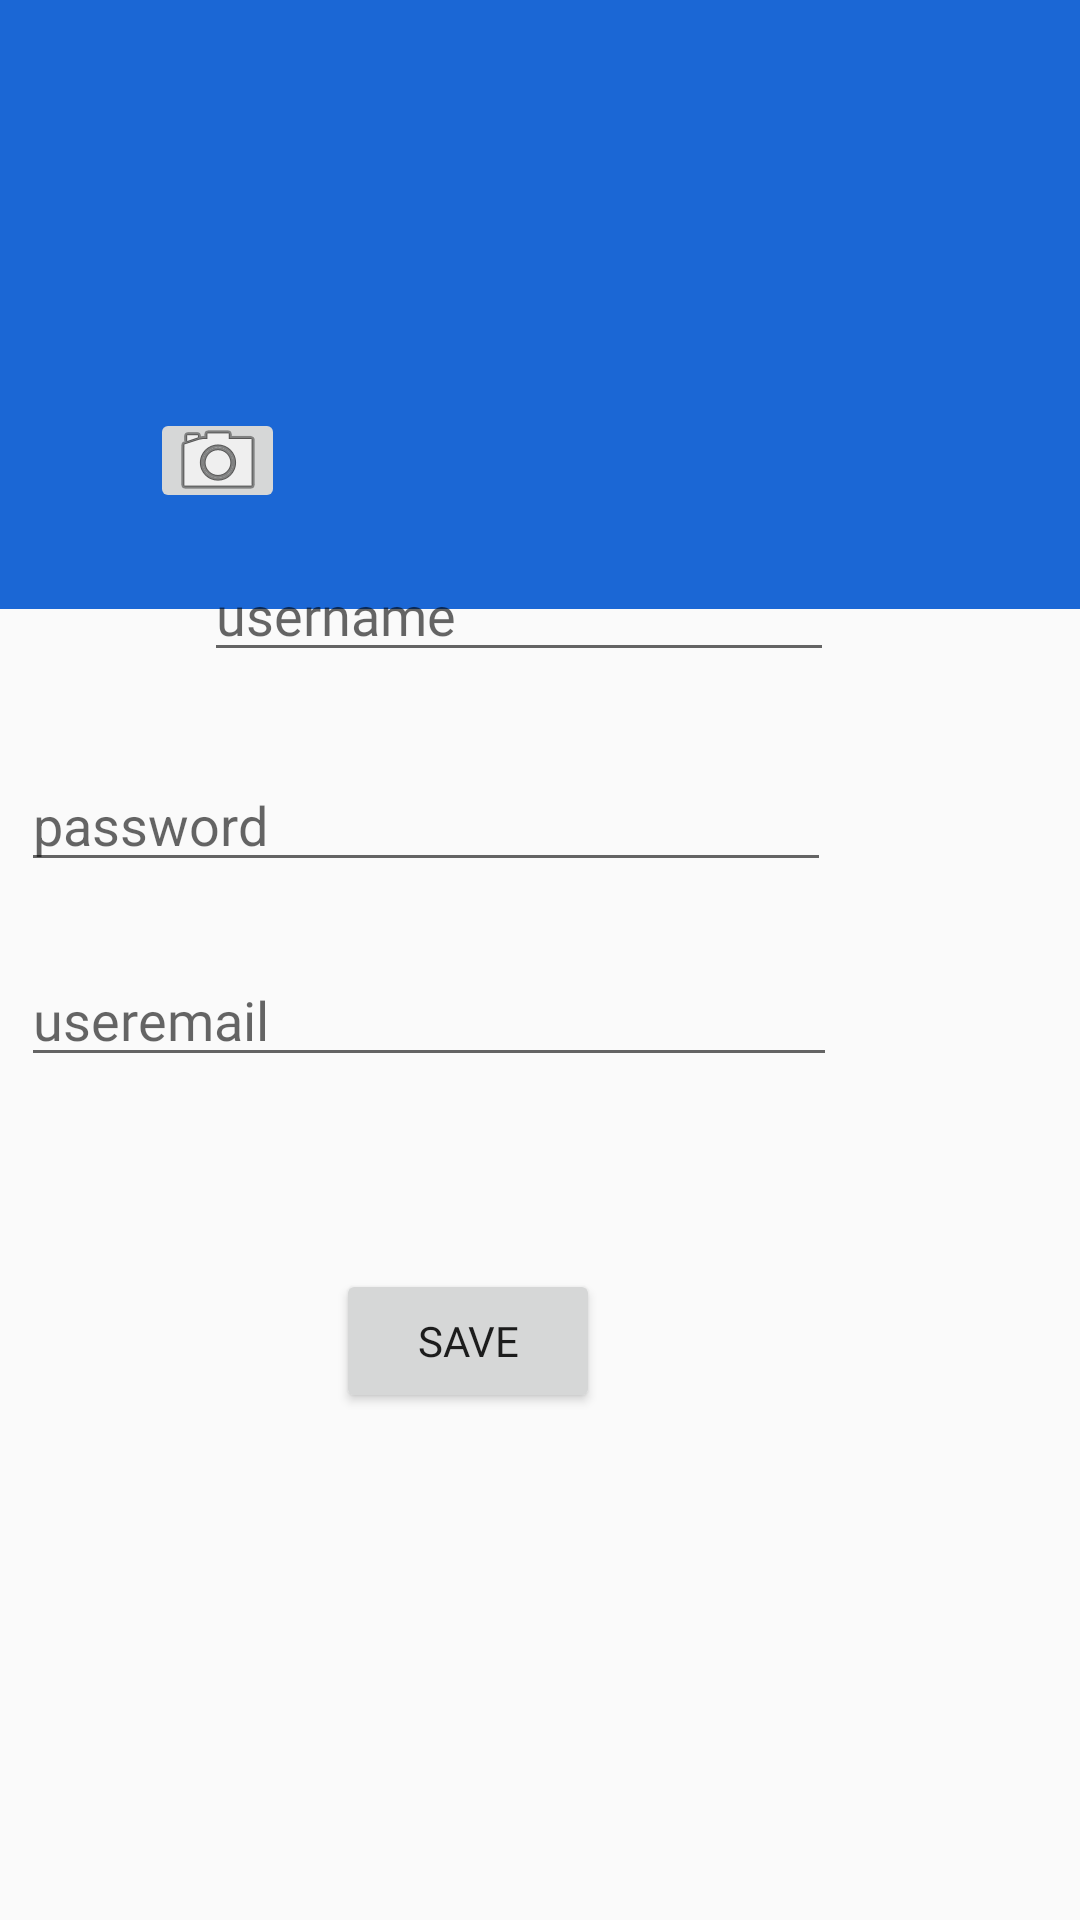

Named icons in this screenshot (1080px x 1920px) and their bounding boxes, region(x1, y1, x2, y2):
camera: region(162, 426, 273, 495)
